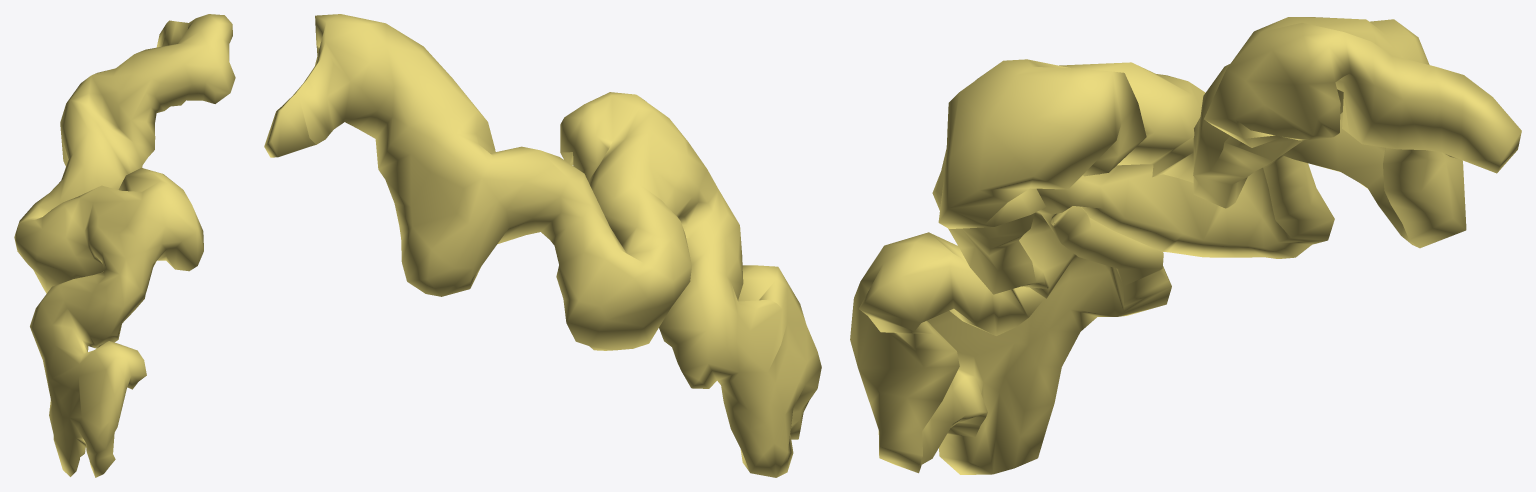
File: precentral-gyrus-r.glb
3 renders of one model, left to right at view 1: azimuth 30°, elevation 25°; view 2: azimuth 150°, elevation 25°; view 3: azimuth 270°, elevation 25°, orthographic. The views are drawn at different scales.
Parts seen in each view (by area): view 1: Precentral gyrus.r; view 2: Precentral gyrus.r; view 3: Precentral gyrus.r.
Boxes of the visible parts, x1=… form: Precentral gyrus.r: x1=14, y1=14, x2=235, y2=477; Precentral gyrus.r: x1=264, y1=14, x2=821, y2=477; Precentral gyrus.r: x1=850, y1=17, x2=1521, y2=474.
Size of the model in its own units: 0.0486 by 0.0613 by 0.0556.
